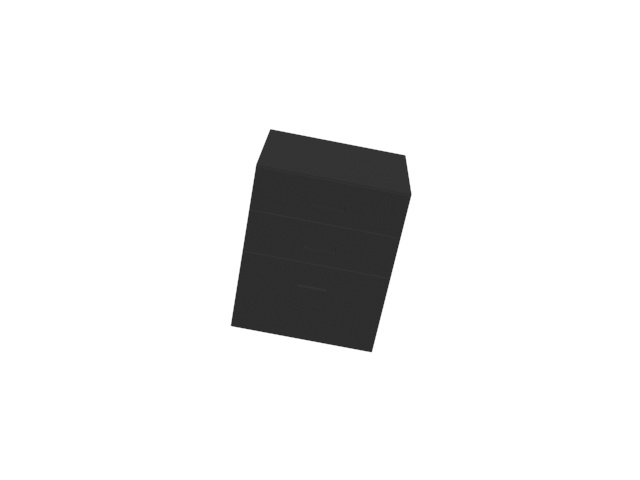file_cabinet: (225, 129, 416, 360)
